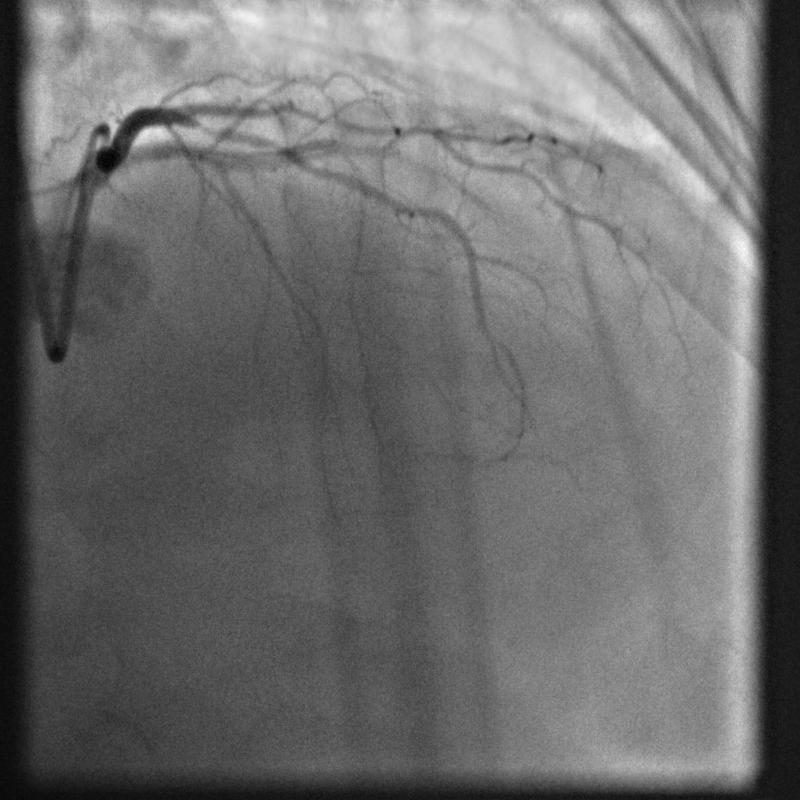Stenosis: (189, 112, 231, 141)
